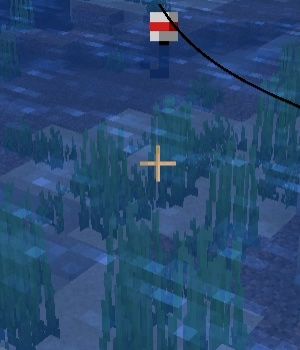up: (146, 5, 185, 68)
